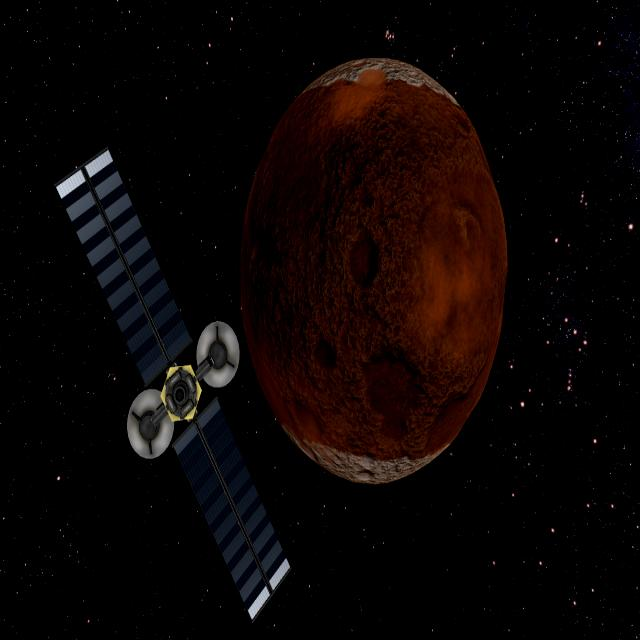satellite: (63, 116, 292, 640)
